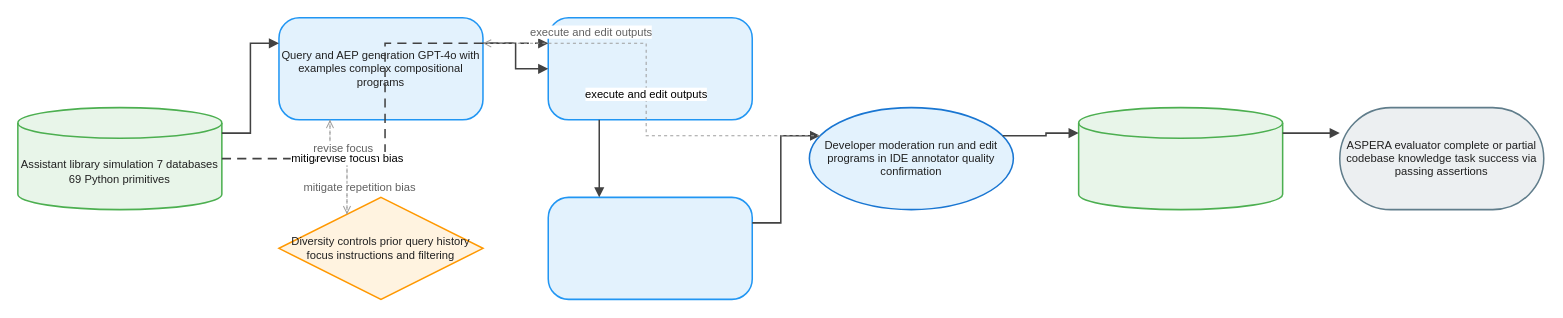
Some shapes in this 1563 by 318 pixel diagram are drawn without their labels. The box of each missing label's shape, as (x1, y1, x2, y2) in pixels:
Asper-Bench dataset 250 tasks AEP, SIP and EP annotations: (1077, 106, 1283, 210)
EP generation execute SIP and AEP assert goals and side effects: (547, 196, 753, 300)
SIP generation initialise simulation state dynamic user databases: (547, 17, 753, 120)
